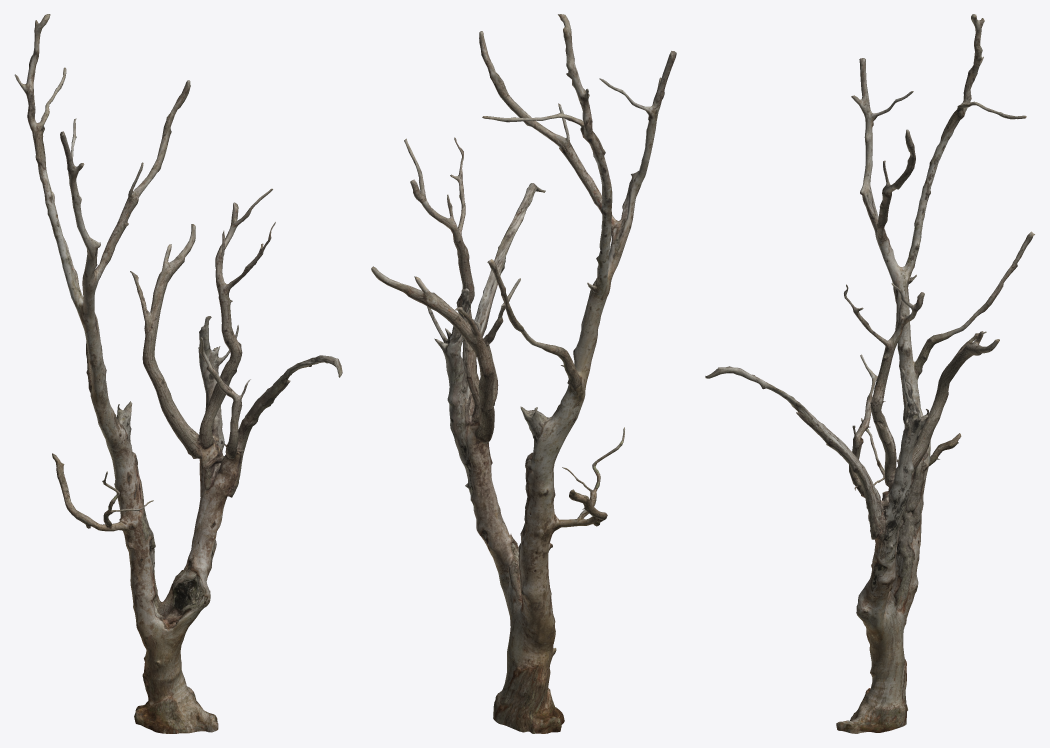
The picture shows the model from 3 angles, left to right: view 1: azimuth 30°, elevation 25°; view 2: azimuth 150°, elevation 25°; view 3: azimuth 270°, elevation 25°; orthographic projection. The views are drawn at different scales.
Visible parts, largest first — view 1: qlEtl_LOD0_TIER2_000; view 2: qlEtl_LOD0_TIER2_000; view 3: qlEtl_LOD0_TIER2_000.
Part boxes in pixels (x1=…): qlEtl_LOD0_TIER2_000: x1=14, y1=14, x2=342, y2=733; qlEtl_LOD0_TIER2_000: x1=371, y1=14, x2=676, y2=733; qlEtl_LOD0_TIER2_000: x1=705, y1=14, x2=1034, y2=733.
Size of the model in its own units: 2.15 by 6.21 by 2.77.
1 material, 1 textured.
